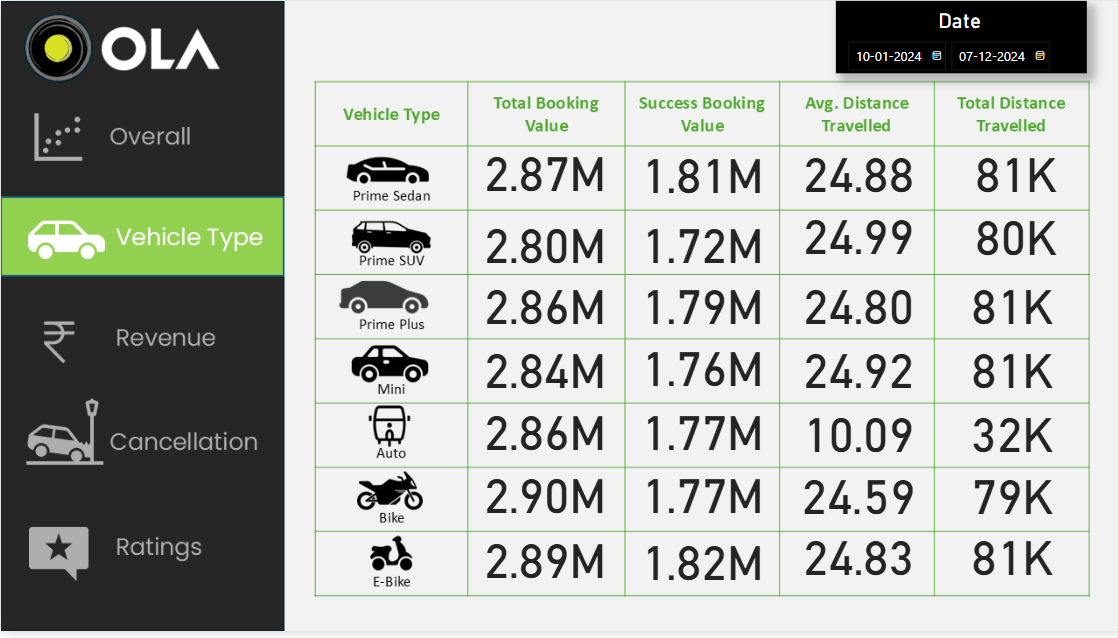

The page's visual inventory and layout, read from the dashboard file:
{"tool":"powerbi","page":{"name":"Vehicle Type","canvas":[1280,720],"ordinal":1},"visuals":[{"type":"actionButton","box":[0,113.3,323.3,90],"z":0},{"type":"actionButton","box":[0,445.6,323.3,106.7],"z":1000},{"type":"actionButton","box":[0,573.3,323.3,110],"z":2000},{"type":"actionButton","box":[10,355.6,323.3,90],"z":3000},{"type":"card","fields":{"Values":["Sum(Bookings.Booking_Value)"]},"box":[537,167,169,71],"z":4000},{"type":"card","fields":{"Values":["Sum(Bookings.Booking_Value)"]},"box":[537,248,169,71],"z":5000},{"type":"card","fields":{"Values":["Sum(Bookings.Booking_Value)"]},"box":[537,319,169,71],"z":6000},{"type":"card","fields":{"Values":["Sum(Bookings.Booking_Value)"]},"box":[537,609,169,71],"z":7000},{"type":"card","fields":{"Values":["Sum(Bookings.Booking_Value)"]},"box":[537,534,169,71],"z":8000},{"type":"card","fields":{"Values":["Sum(Bookings.Booking_Value)"]},"box":[537,463,169,71],"z":9000},{"type":"card","fields":{"Values":["Sum(Bookings.Booking_Value)"]},"box":[537,392,169,71],"z":10000},{"type":"card","fields":{"Values":["Sum(Bookings.Booking_Value)"]},"box":[717,168,169,71],"z":11000},{"type":"card","fields":{"Values":["Sum(Bookings.Booking_Value)"]},"box":[717,248,169,71],"z":12000},{"type":"card","fields":{"Values":["Sum(Bookings.Booking_Value)"]},"box":[717,612,169,71],"z":13000},{"type":"card","fields":{"Values":["Sum(Bookings.Booking_Value)"]},"box":[717,534,169,71],"z":14000},{"type":"card","fields":{"Values":["Sum(Bookings.Booking_Value)"]},"box":[717,463,169,71],"z":15000},{"type":"card","fields":{"Values":["Sum(Bookings.Booking_Value)"]},"box":[717,390,169,71],"z":16000},{"type":"card","fields":{"Values":["Sum(Bookings.Booking_Value)"]},"box":[717,319,169,71],"z":17000},{"type":"card","fields":{"Values":["Avg(Bookings.Ride_Distance)"]},"box":[895,167.5,168.8,71.2],"z":18000},{"type":"card","fields":{"Values":["Avg(Bookings.Ride_Distance)"]},"box":[895,238.8,168.8,71.2],"z":19000},{"type":"card","fields":{"Values":["Avg(Bookings.Ride_Distance)"]},"box":[895,318.8,168.8,71.2],"z":20000},{"type":"card","fields":{"Values":["Avg(Bookings.Ride_Distance)"]},"box":[895,391.2,168.8,71.2],"z":21000},{"type":"card","fields":{"Values":["Avg(Bookings.Ride_Distance)"]},"box":[895,463.8,168.8,71.2],"z":22000},{"type":"card","fields":{"Values":["Avg(Bookings.Ride_Distance)"]},"box":[895,535,168.8,71.2],"z":23000},{"type":"card","fields":{"Values":["Avg(Bookings.Ride_Distance)"]},"box":[895,606.2,168.8,70],"z":24000},{"type":"card","fields":{"Values":["Sum(Bookings.Ride_Distance)"]},"box":[1075,167.5,168.8,71.2],"z":25000},{"type":"card","fields":{"Values":["Sum(Bookings.Ride_Distance)"]},"box":[1075,240,168.8,71.2],"z":26000},{"type":"card","fields":{"Values":["Sum(Bookings.Ride_Distance)"]},"box":[1072,318.8,168.8,71.2],"z":27000},{"type":"card","fields":{"Values":["Sum(Bookings.Ride_Distance)"]},"box":[1072,391.2,168.8,71.2],"z":28000},{"type":"card","fields":{"Values":["Sum(Bookings.Ride_Distance)"]},"box":[1072,463.8,168.8,71.2],"z":29000},{"type":"card","fields":{"Values":["Sum(Bookings.Ride_Distance)"]},"box":[1072,535,168.8,71.2],"z":30000},{"type":"card","fields":{"Values":["Sum(Bookings.Ride_Distance)"]},"box":[1072,606.2,168.8,70],"z":31000},{"type":"slicer","title":"Date","fields":{"Values":["Bookings.Date"]},"box":[953.8,0,286.2,82.5],"z":32000}]}

Visuals, with their boxes in screenshot pixels (x1, y1, x2, y2), scaled from the page's 1280x720 canvas onto the 1118x638 screenshot:
actionButton: (0,100,282,180)
actionButton: (0,395,282,489)
actionButton: (0,508,282,605)
actionButton: (9,315,291,395)
card - Sum(Bookings.Booking_Value): (469,148,617,211)
card - Sum(Bookings.Booking_Value): (469,220,617,283)
card - Sum(Bookings.Booking_Value): (469,283,617,346)
card - Sum(Bookings.Booking_Value): (469,540,617,603)
card - Sum(Bookings.Booking_Value): (469,473,617,536)
card - Sum(Bookings.Booking_Value): (469,410,617,473)
card - Sum(Bookings.Booking_Value): (469,347,617,410)
card - Sum(Bookings.Booking_Value): (626,149,774,212)
card - Sum(Bookings.Booking_Value): (626,220,774,283)
card - Sum(Bookings.Booking_Value): (626,542,774,605)
card - Sum(Bookings.Booking_Value): (626,473,774,536)
card - Sum(Bookings.Booking_Value): (626,410,774,473)
card - Sum(Bookings.Booking_Value): (626,346,774,408)
card - Sum(Bookings.Booking_Value): (626,283,774,346)
card - Avg(Bookings.Ride_Distance): (782,148,929,212)
card - Avg(Bookings.Ride_Distance): (782,212,929,275)
card - Avg(Bookings.Ride_Distance): (782,282,929,346)
card - Avg(Bookings.Ride_Distance): (782,347,929,410)
card - Avg(Bookings.Ride_Distance): (782,411,929,474)
card - Avg(Bookings.Ride_Distance): (782,474,929,537)
card - Avg(Bookings.Ride_Distance): (782,537,929,599)
card - Sum(Bookings.Ride_Distance): (939,148,1086,212)
card - Sum(Bookings.Ride_Distance): (939,213,1086,276)
card - Sum(Bookings.Ride_Distance): (936,282,1084,346)
card - Sum(Bookings.Ride_Distance): (936,347,1084,410)
card - Sum(Bookings.Ride_Distance): (936,411,1084,474)
card - Sum(Bookings.Ride_Distance): (936,474,1084,537)
card - Sum(Bookings.Ride_Distance): (936,537,1084,599)
"Date" slicer: (833,0,1083,73)
